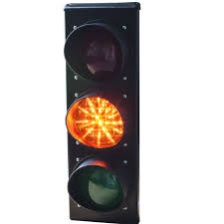semaforo: (64, 2, 141, 224)
